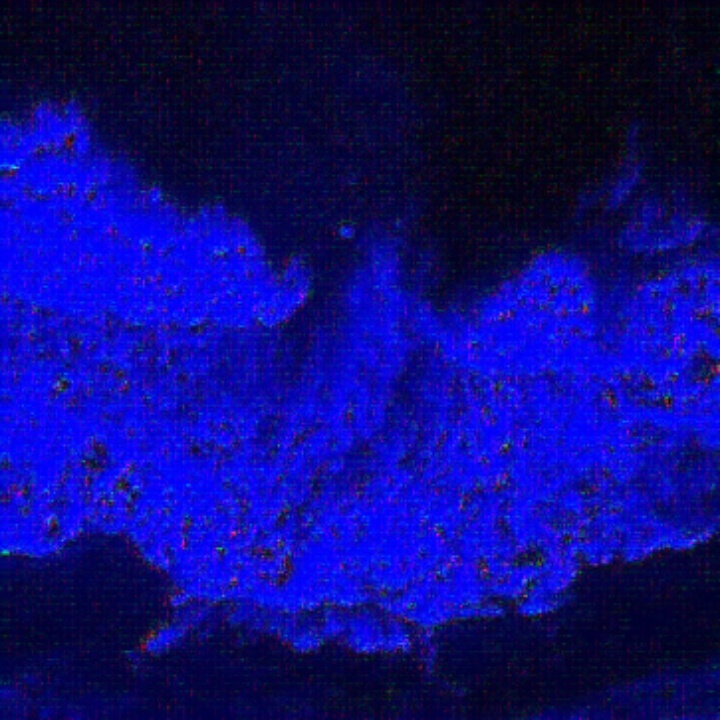rip_current: (212, 162, 473, 569)
